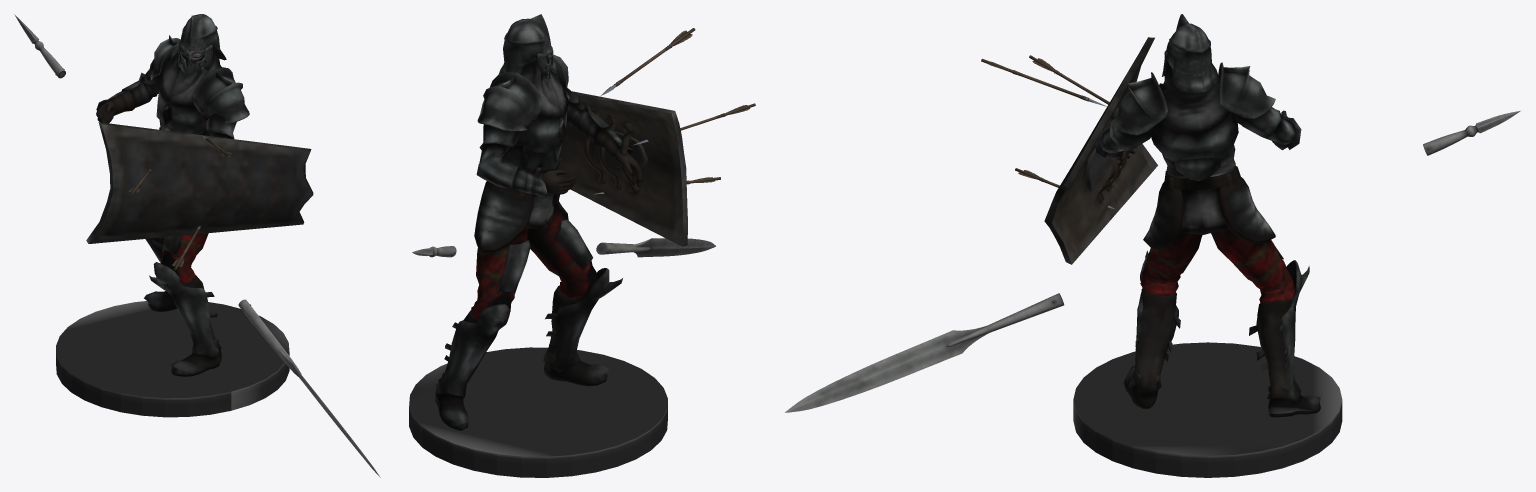
3 views of the same model, side by side, from view 1: azimuth 30°, elevation 25°; view 2: azimuth 150°, elevation 25°; view 3: azimuth 270°, elevation 25° (orthographic). The views are drawn at different scales.
Visible parts, largest first — view 1: highgatekeeper01_generalrouge_reference1.smd; view 2: highgatekeeper01_generalrouge_reference1.smd; view 3: highgatekeeper01_generalrouge_reference1.smd.
Boxes of the visible parts, left/top/right/bottom form: highgatekeeper01_generalrouge_reference1.smd: left=14, top=14, right=380, bottom=477; highgatekeeper01_generalrouge_reference1.smd: left=409, top=14, right=755, bottom=477; highgatekeeper01_generalrouge_reference1.smd: left=785, top=14, right=1520, bottom=477.
Bounding box in the file's own units: 1.09 × 1.69 × 2.74.
Materials: 1 (1 with a texture image).
